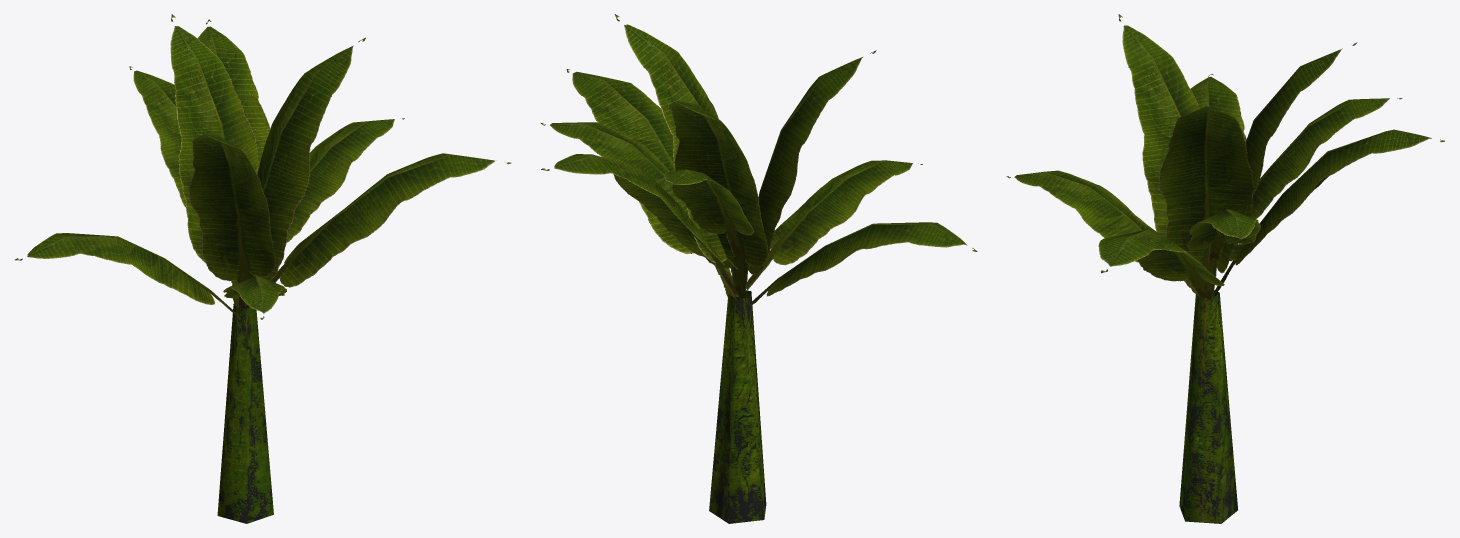
The model's file is banana.dae.
3 views of the same model, side by side, from view 1: azimuth 30°, elevation 25°; view 2: azimuth 150°, elevation 25°; view 3: azimuth 270°, elevation 25° (orthographic). The views are drawn at different scales.
Visible parts, largest first — view 1: Plane; view 2: Plane; view 3: Plane.
Boxes of the visible parts, left/top/right/bottom form: Plane: left=15, top=14, right=511, bottom=523; Plane: left=540, top=14, right=977, bottom=523; Plane: left=1006, top=14, right=1444, bottom=523.
Bounding box in the file's own units: 4.8 × 3.9 × 4.59.
1 material, 1 textured.
